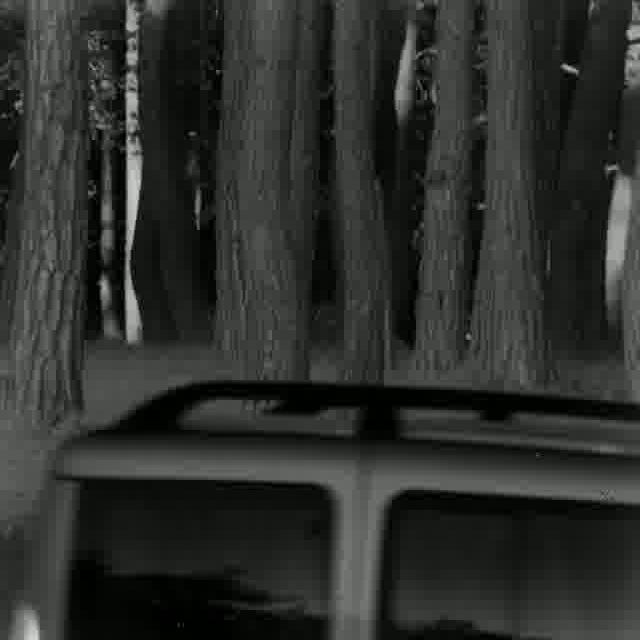Car: (18, 377, 640, 640)
